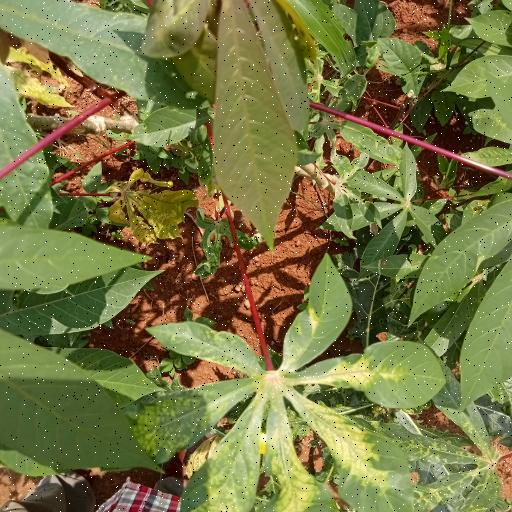Cassava_Healthy: (150, 274, 460, 512)
